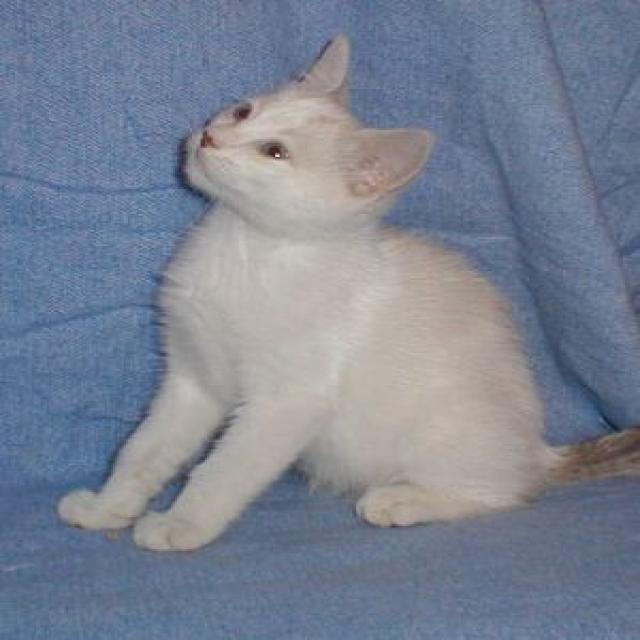Cats: (55, 32, 638, 553)
